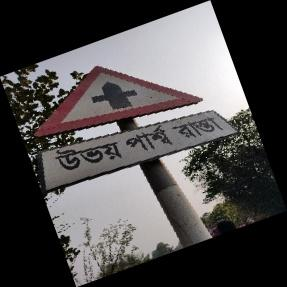Crossroad: (33, 66, 233, 193)
